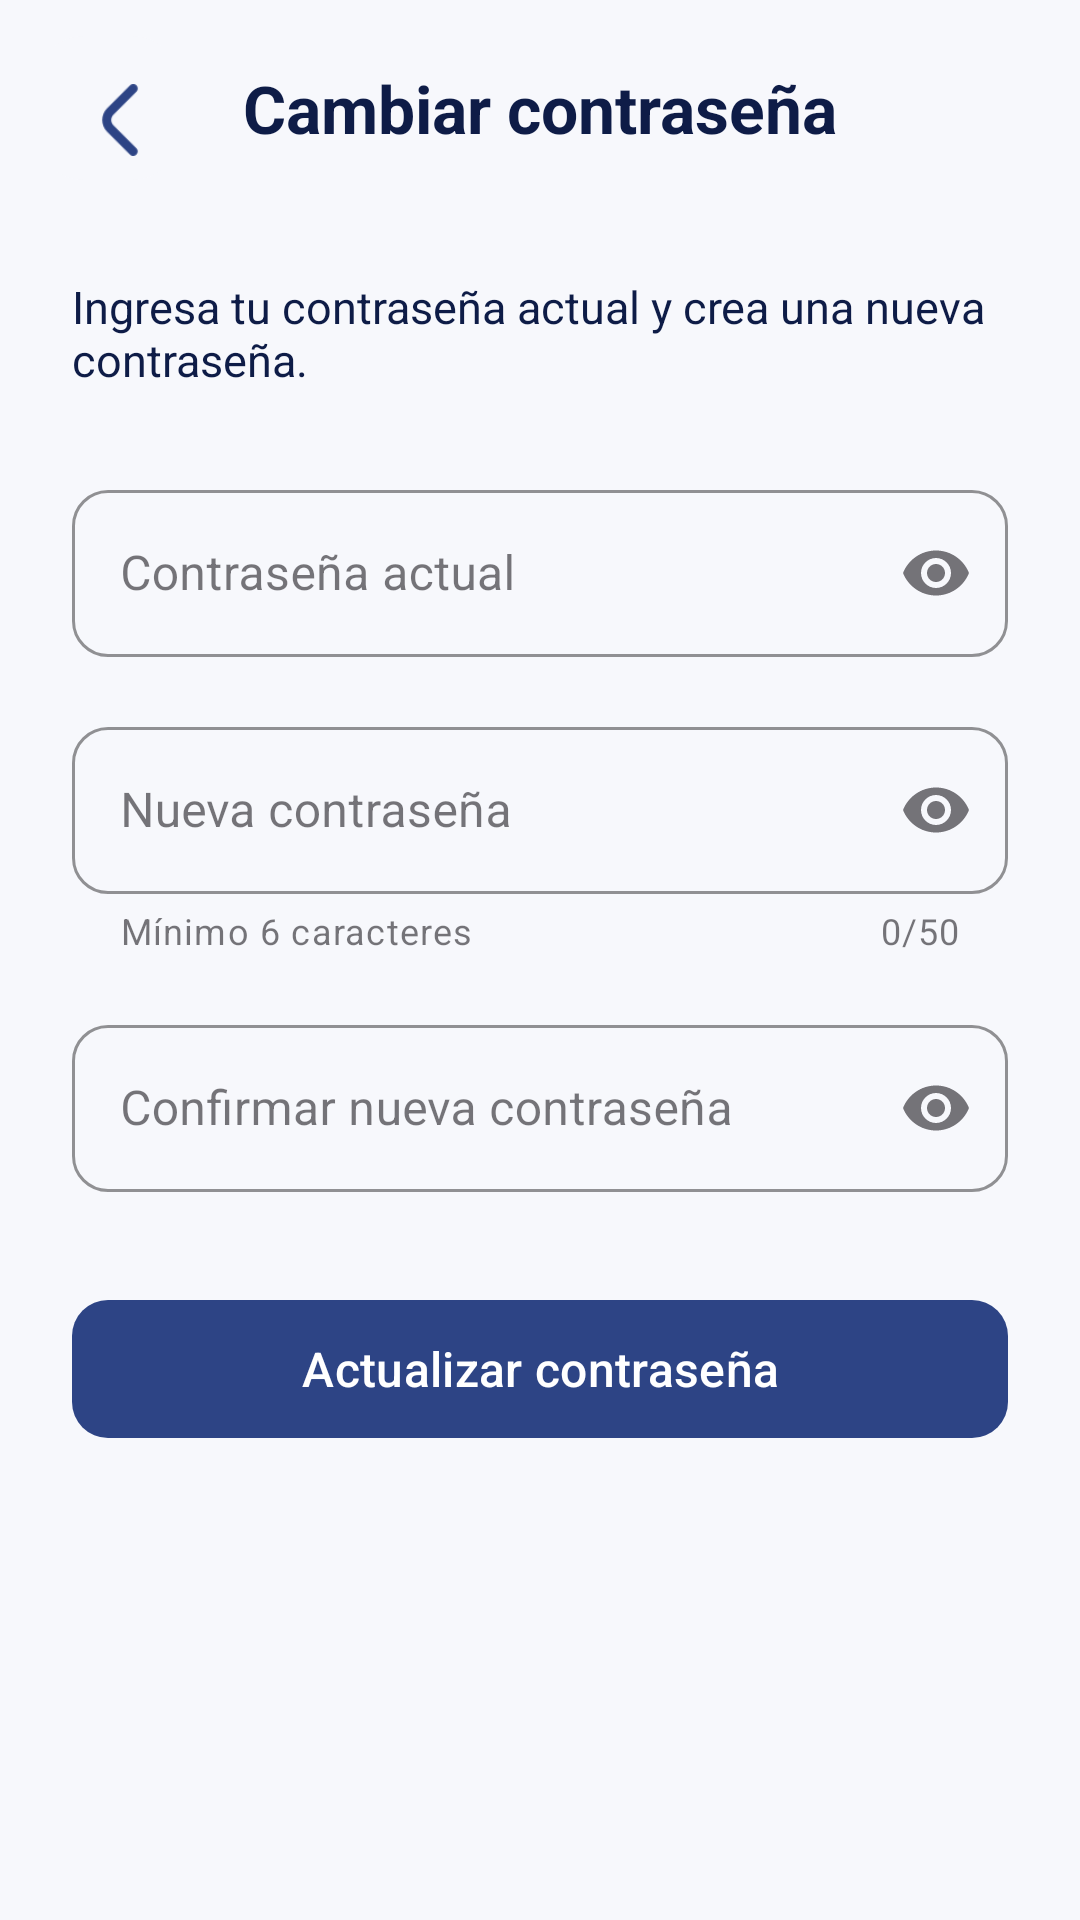

Named icons in this screenshot (1080 x 1920) and their bounding boxes, [x1,y1,x2,y2]:
Volver: [102,84,138,156]
